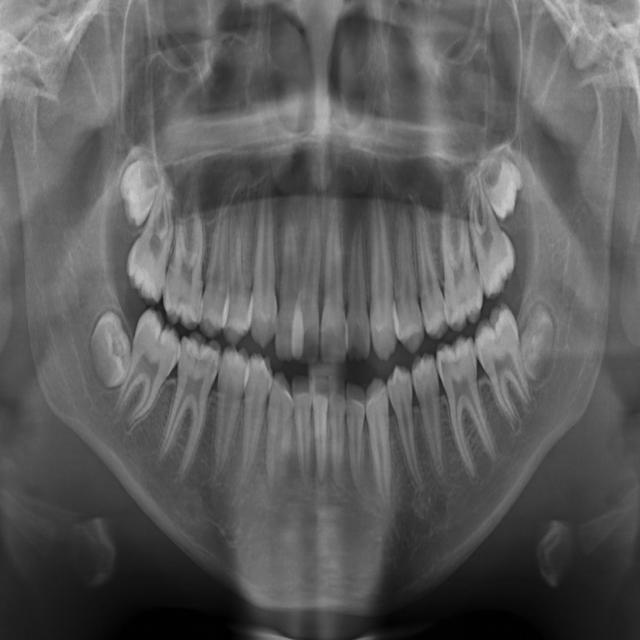3M ESPE Implant: (109, 152, 162, 231)
AGS Medikal Implant: (528, 379, 528, 380)
AMerOss Implant: (431, 331, 502, 482)
Amalgam filling: (118, 168, 186, 308)
Anthogyr Implant: (409, 351, 449, 487)
Bicon Implant: (384, 363, 427, 496)
BioHorizons Implant: (364, 376, 394, 513)
BioLife Implant: (346, 380, 365, 497)
Biomet 3i Implant: (328, 375, 345, 484)
Blue Sky Bio Implant: (312, 373, 328, 485)
Camlog Implant: (291, 373, 312, 492)
Caries: (340, 213, 372, 363)
Composite filling: (263, 370, 296, 499)
Cowellmedi Implant: (228, 350, 276, 489)
Crown: (201, 341, 250, 482)
DENTSPLY Implant: (159, 192, 212, 331)
Dentatus Implant: (153, 327, 224, 483)
Dentis Implant: (107, 304, 190, 440)
Dentium Implant: (79, 307, 138, 391)
Euroteknika Implant: (198, 190, 234, 337)
Filling: (228, 268, 229, 270)
Frontier Implant: (249, 176, 281, 350)
Hiossen Implant: (358, 170, 400, 362)
Implant: (298, 209, 322, 364)
Implant Direct: (275, 215, 298, 361)
Keystone Dental Implant: (314, 204, 347, 366)
MIS Implant: (384, 198, 426, 356)
Mandible: (406, 193, 449, 342)
Maxilla: (425, 188, 488, 334)
Megagen Implant: (479, 186, 482, 225)
Neodent Implant: (479, 144, 533, 225)
Neoss Implant: (515, 300, 559, 384)
